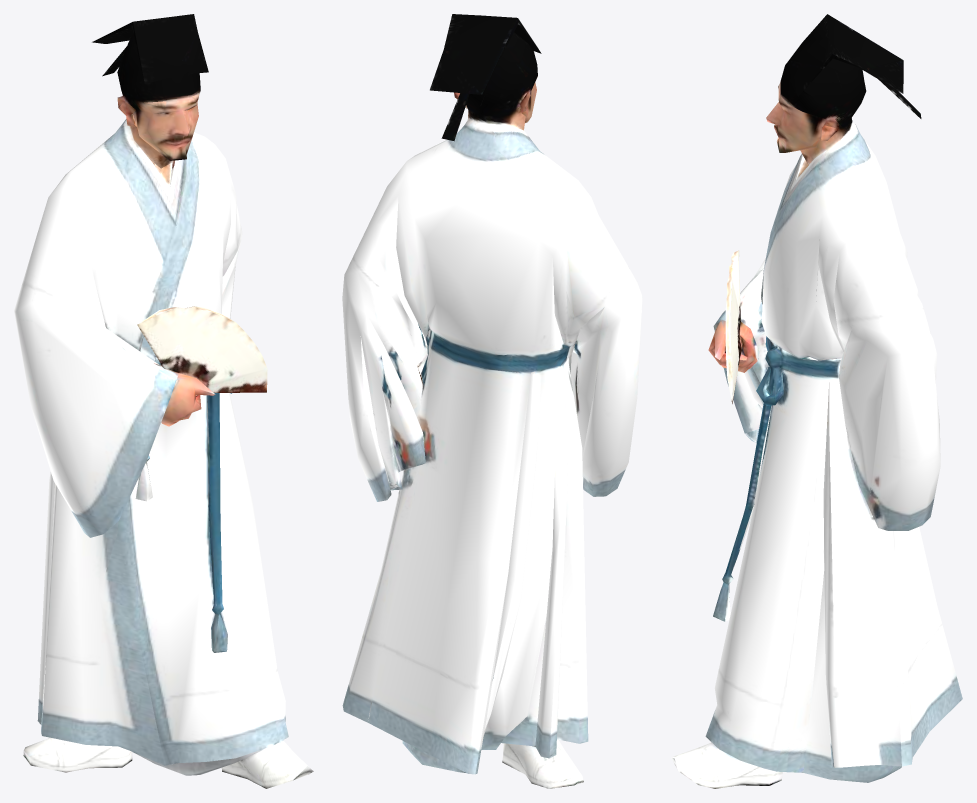
The model's file is p_scholar_lo.glb.
The picture shows the model from 3 angles, left to right: view 1: azimuth 30°, elevation 25°; view 2: azimuth 150°, elevation 25°; view 3: azimuth 270°, elevation 25°; orthographic projection.
Parts seen in each view (by area): view 1: p_scholar; view 2: p_scholar; view 3: p_scholar.
Part boxes in pixels (x1,y1,x2,y2): p_scholar: [14, 14, 313, 788]; p_scholar: [342, 14, 642, 788]; p_scholar: [671, 14, 962, 788].
Size of the model in its own units: 0.6334 by 1.75 by 0.6358.
1 material, 1 textured.
